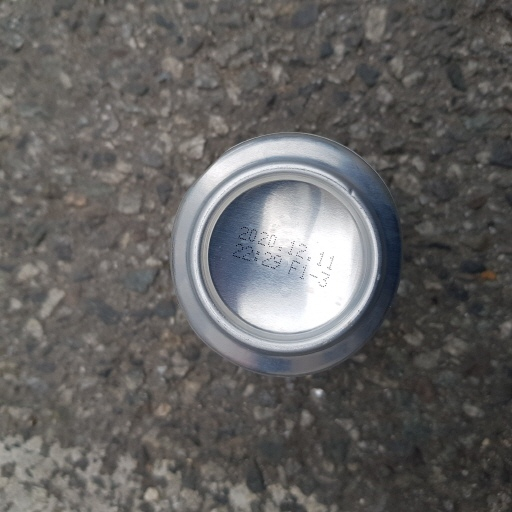Metal_0: (165, 127, 406, 381)
